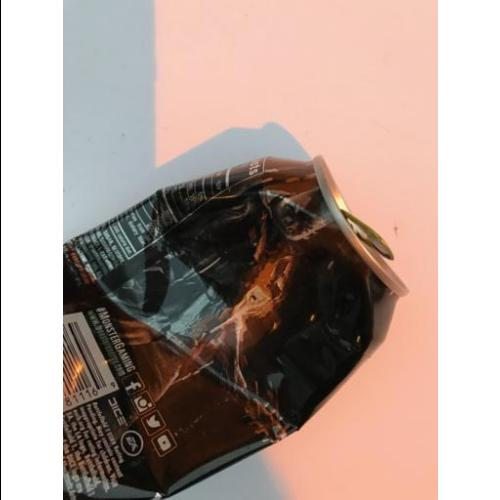metal: (64, 151, 408, 499)
